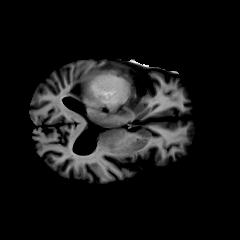glioma: (75, 70, 140, 112)
